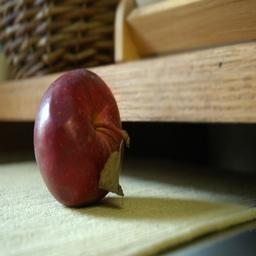apple: (31, 71, 128, 210)
